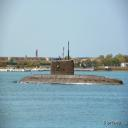submarine: (18, 40, 125, 85)
